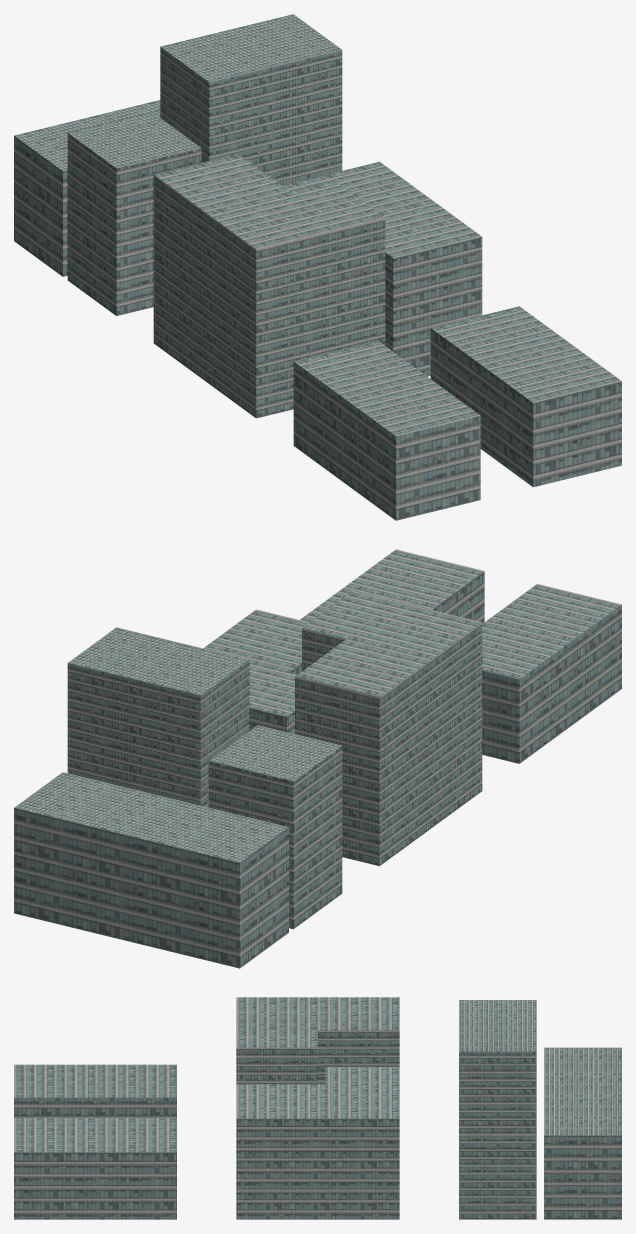
Rendered from buildings.obj.
The picture shows the model from 3 angles, top to bottom: view 1: azimuth 30°, elevation 25°; view 2: azimuth 150°, elevation 25°; view 3: azimuth 270°, elevation 25°; orthographic projection. The views are drawn at different scales.
Visible parts, largest first — view 1: Buildings; view 2: Buildings; view 3: Buildings.
Boxes of the visible parts, left/top/right/bottom form: Buildings: left=14, top=14, right=621, bottom=520; Buildings: left=14, top=549, right=621, bottom=968; Buildings: left=14, top=997, right=621, bottom=1219.
Bounding box in the file's own units: 56 × 50 × 164.
Materials: 1 (1 with a texture image).
